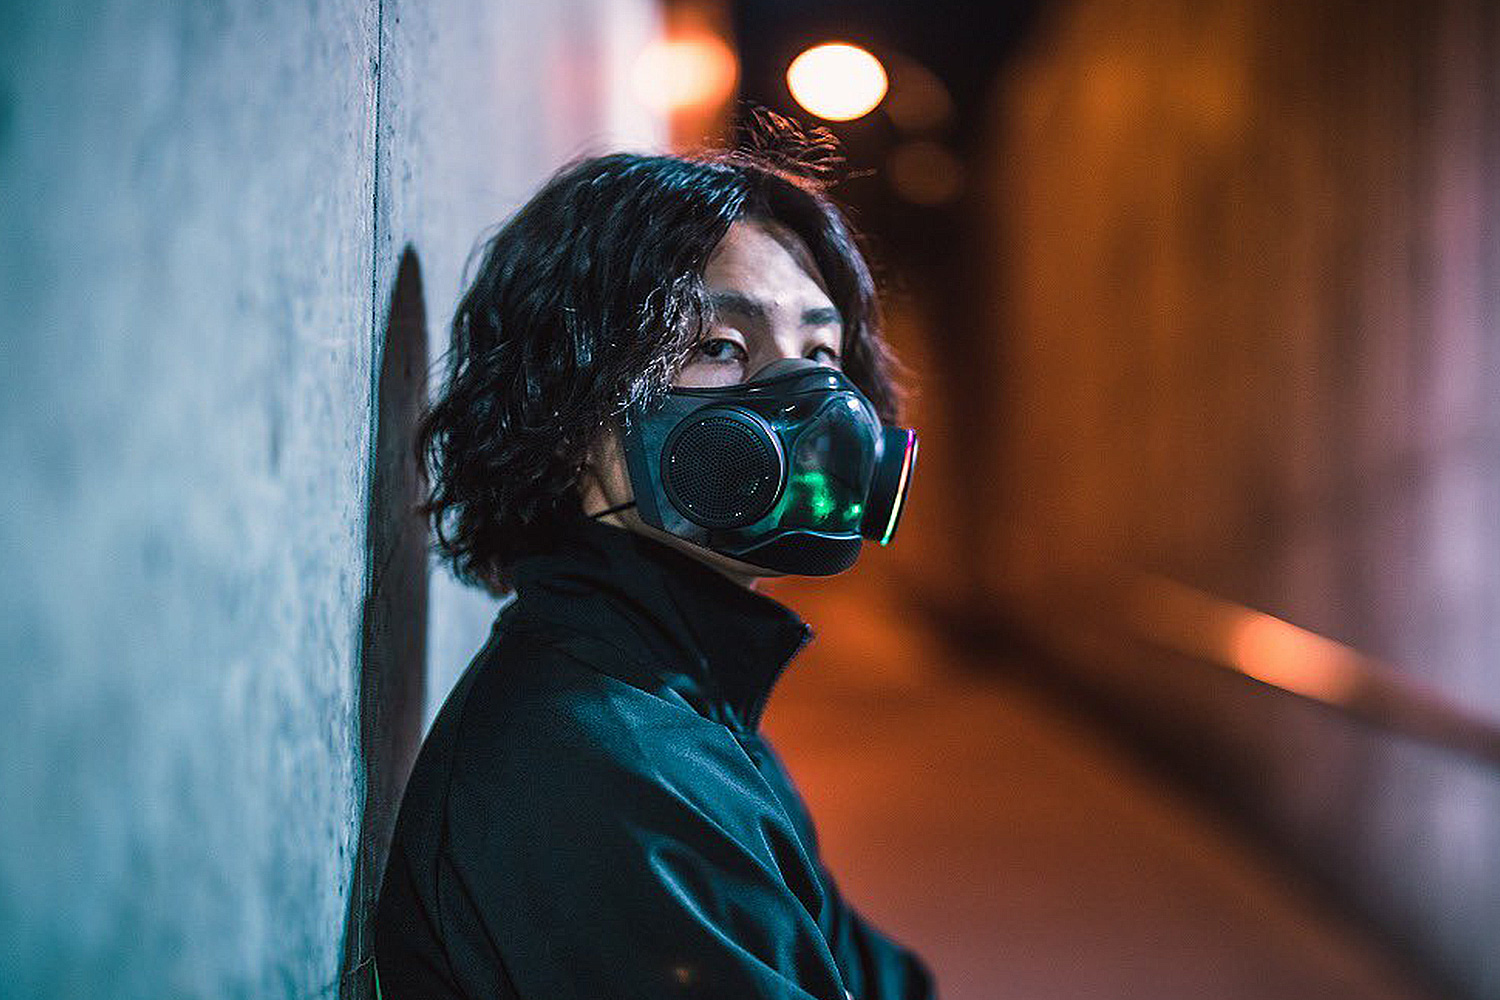mask: (613, 369, 917, 585)
person: (373, 140, 987, 1000)
